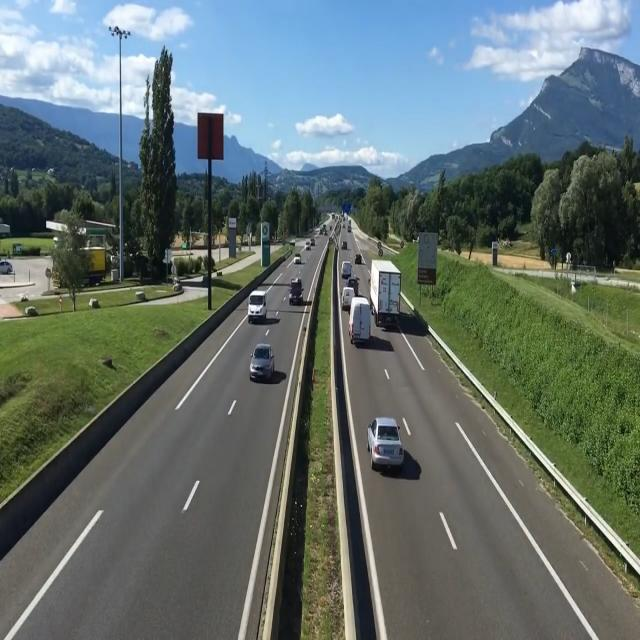car: (368, 414, 407, 475), (246, 283, 278, 327), (250, 339, 278, 385), (348, 295, 370, 349), (287, 268, 307, 312), (340, 256, 353, 278)
truck: (370, 254, 407, 340)
